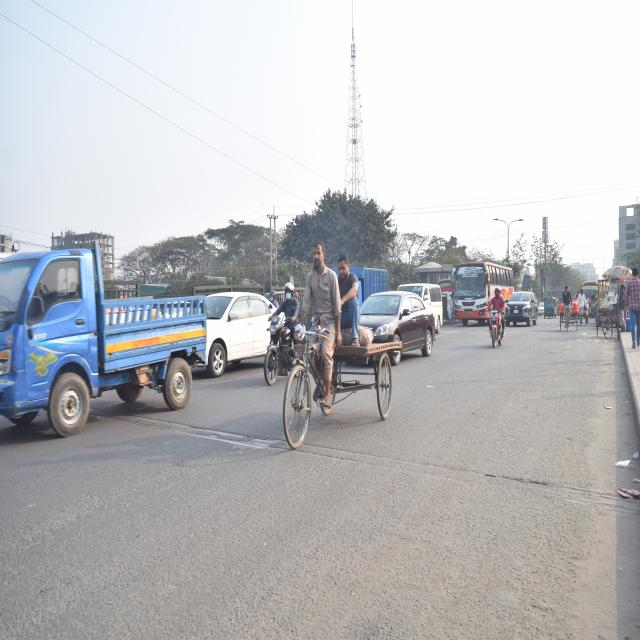bus: (449, 253, 497, 335)
car: (203, 287, 270, 393), (361, 285, 436, 376), (508, 288, 539, 330)
microbus: (409, 272, 445, 326)
motorbike: (260, 293, 310, 400), (484, 298, 507, 360)
pickup-van: (0, 221, 197, 464)
